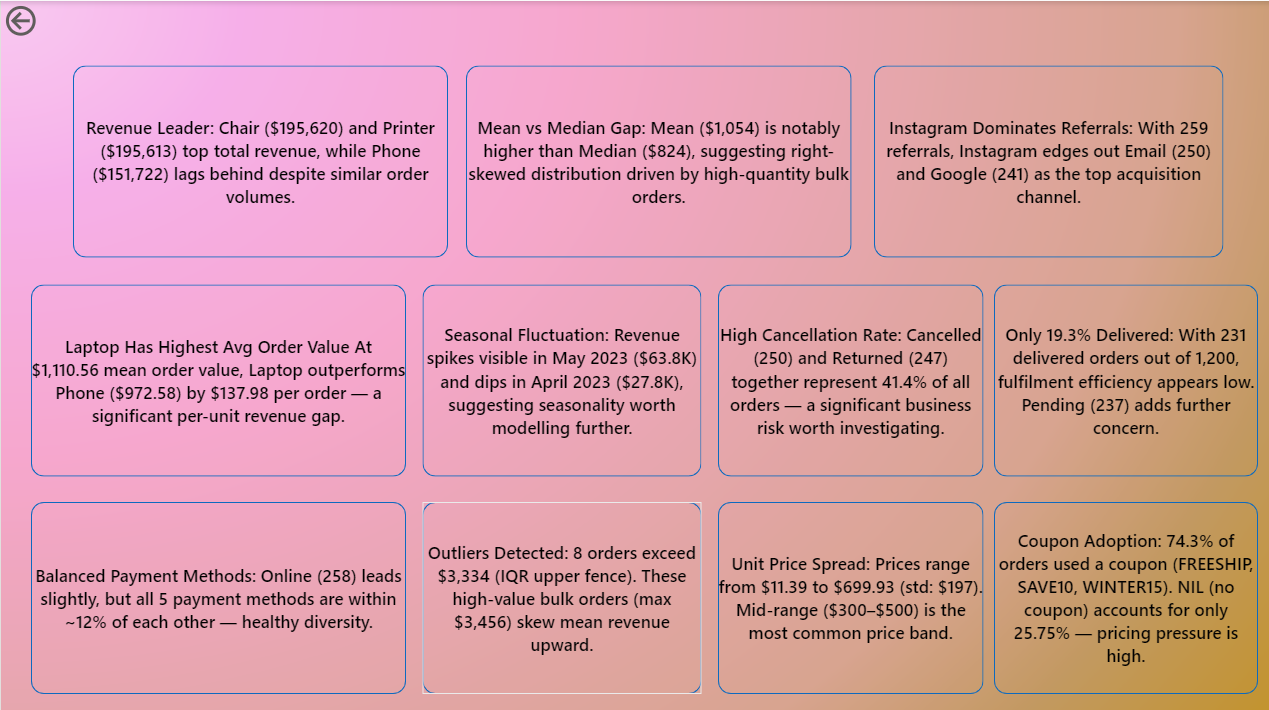

The page's visual inventory and layout, read from the dashboard file:
{"tool":"powerbi","page":{"name":"Key Observations & Insights","canvas":[1280,720],"ordinal":1},"visuals":[{"type":"actionButton","box":[0,0,100,40],"z":0},{"type":"shape","box":[72.7,65.1,378.6,193.8],"z":1000},{"type":"shape","box":[469.4,65.1,389.2,193.8],"z":2000},{"type":"shape","box":[425.5,286.2,281.6,193.8],"z":3000},{"type":"shape","box":[723.8,286.2,268,193.8],"z":4000},{"type":"shape","box":[1002.4,286.2,266.5,193.8],"z":5000},{"type":"shape","box":[30.3,505.7,378.6,193.8],"z":6000},{"type":"shape","box":[425.5,505.7,281.6,193.8],"z":7000},{"type":"shape","box":[723.8,505.7,268,193.8],"z":8000},{"type":"shape","box":[1002.4,505.7,266.5,193.8],"z":9000},{"type":"shape","box":[881.3,65.1,352.8,193.8],"z":10000},{"type":"shape","box":[30.3,286.2,378.6,193.8],"z":11000}]}

Visuals, with their boxes in screenshot pixels (x1, y1, x2, y2), scaled from the page's 1280x720 canvas onto the 1269x710 screenshot:
actionButton: Rect(0, 0, 99, 39)
shape: Rect(72, 64, 447, 255)
shape: Rect(465, 64, 851, 255)
shape: Rect(422, 282, 701, 473)
shape: Rect(718, 282, 983, 473)
shape: Rect(994, 282, 1258, 473)
shape: Rect(30, 499, 405, 690)
shape: Rect(422, 499, 701, 690)
shape: Rect(718, 499, 983, 690)
shape: Rect(994, 499, 1258, 690)
shape: Rect(874, 64, 1223, 255)
shape: Rect(30, 282, 405, 473)
